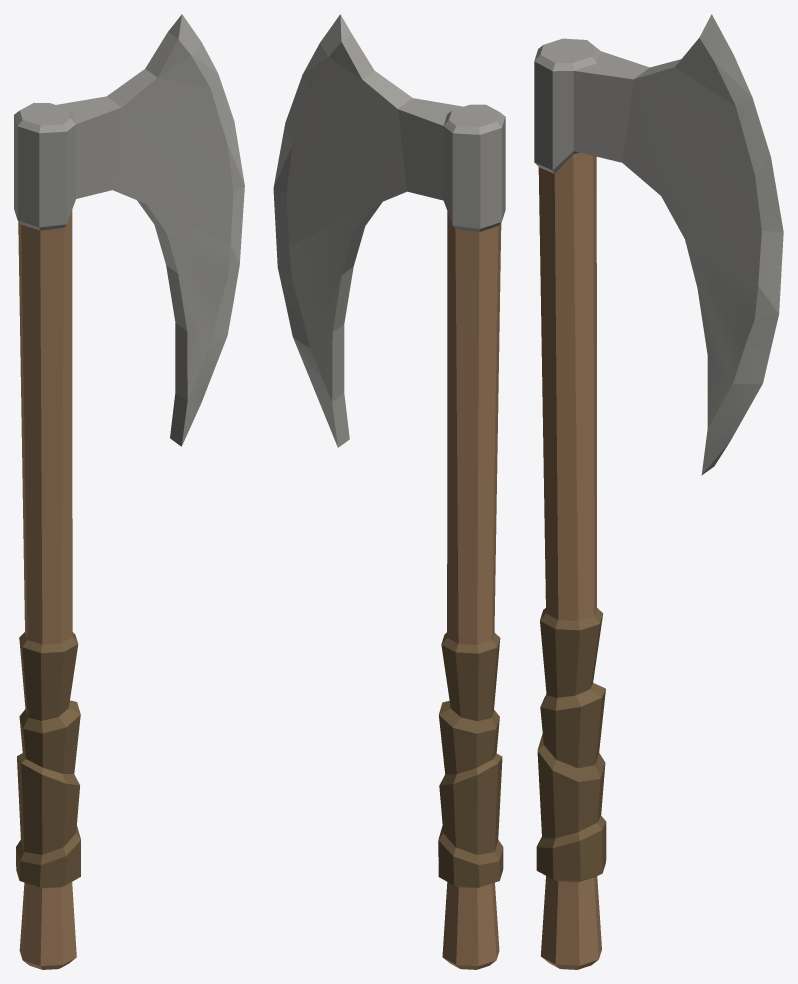
Rendered from SM_pwe_slavic_axe_04.fbx.
3 views of the same model, side by side, from view 1: azimuth 30°, elevation 25°; view 2: azimuth 150°, elevation 25°; view 3: azimuth 330°, elevation 25° (orthographic). The views are drawn at different scales.
Parts seen in each view (by area): view 1: SM_pwe_slavic_axe_04; view 2: SM_pwe_slavic_axe_04; view 3: SM_pwe_slavic_axe_04.
Boxes of the visible parts, <box> form: SM_pwe_slavic_axe_04: <box>14,14,244,969</box>; SM_pwe_slavic_axe_04: <box>273,14,505,969</box>; SM_pwe_slavic_axe_04: <box>534,14,783,969</box>.
Size of the model in its own units: 19.89 by 76.32 by 5.4.
